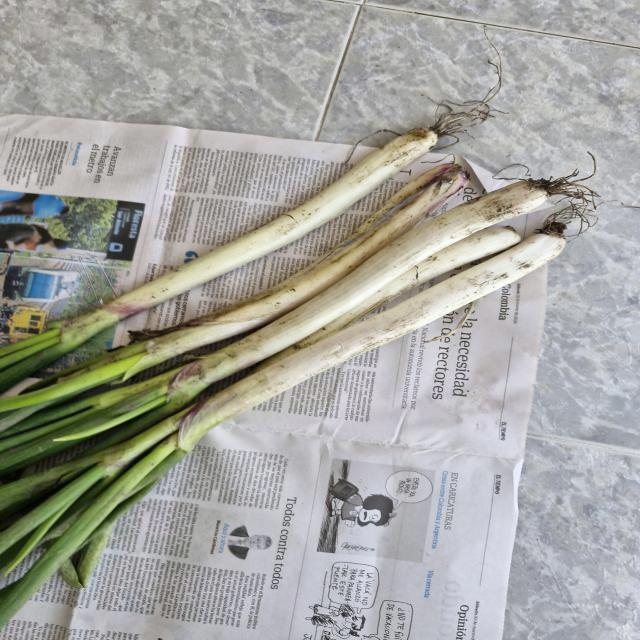green_onion: (0, 233, 566, 640), (0, 111, 459, 401)
